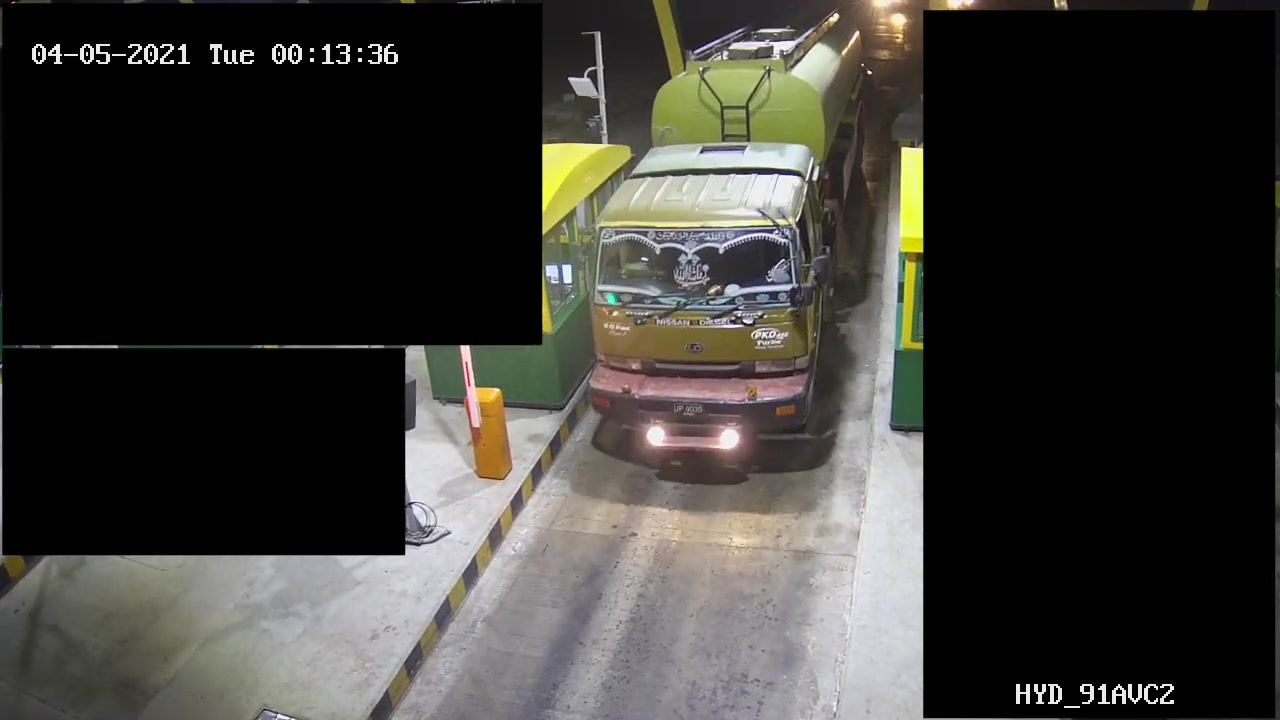F6: (586, 1, 866, 470)
